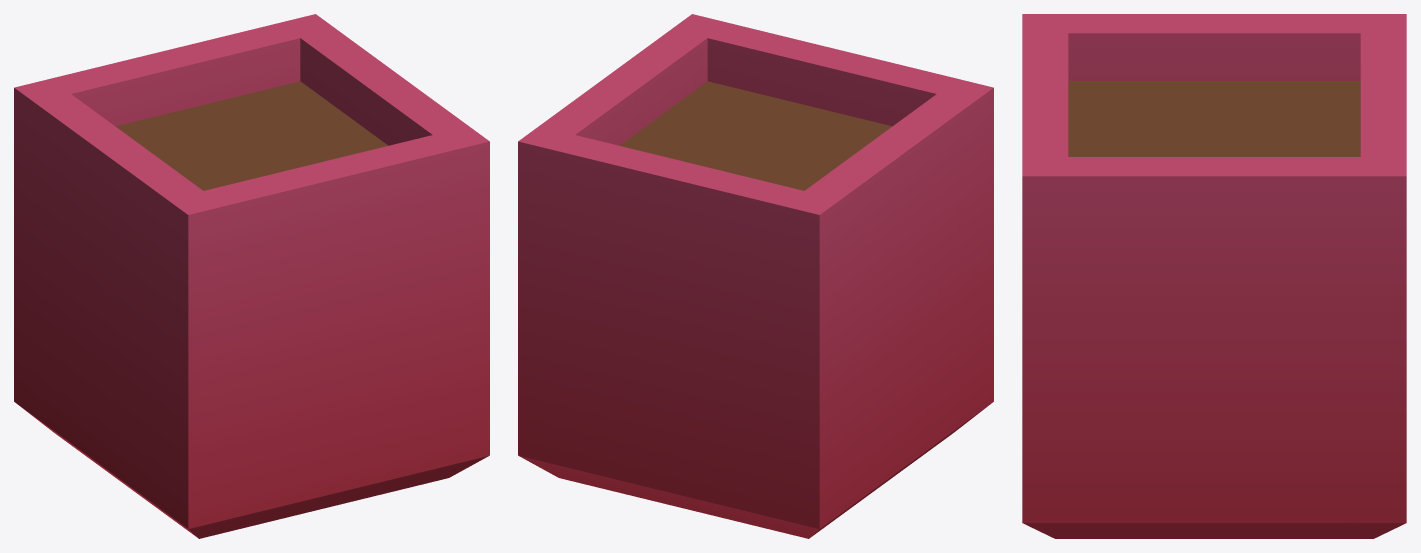
The picture shows the model from 3 angles, left to right: view 1: azimuth 30°, elevation 25°; view 2: azimuth 150°, elevation 25°; view 3: azimuth 270°, elevation 25°; orthographic projection. The views are drawn at different scales.
Visible parts, largest first — view 1: Cube.163; view 2: Cube.163; view 3: Cube.163.
Part boxes in pixels (x1=…): Cube.163: x1=14, y1=14, x2=489, y2=538; Cube.163: x1=518, y1=14, x2=993, y2=538; Cube.163: x1=1022, y1=14, x2=1406, y2=538.
Bounding box in the file's own units: 0.3134 × 0.3387 × 0.3134.
